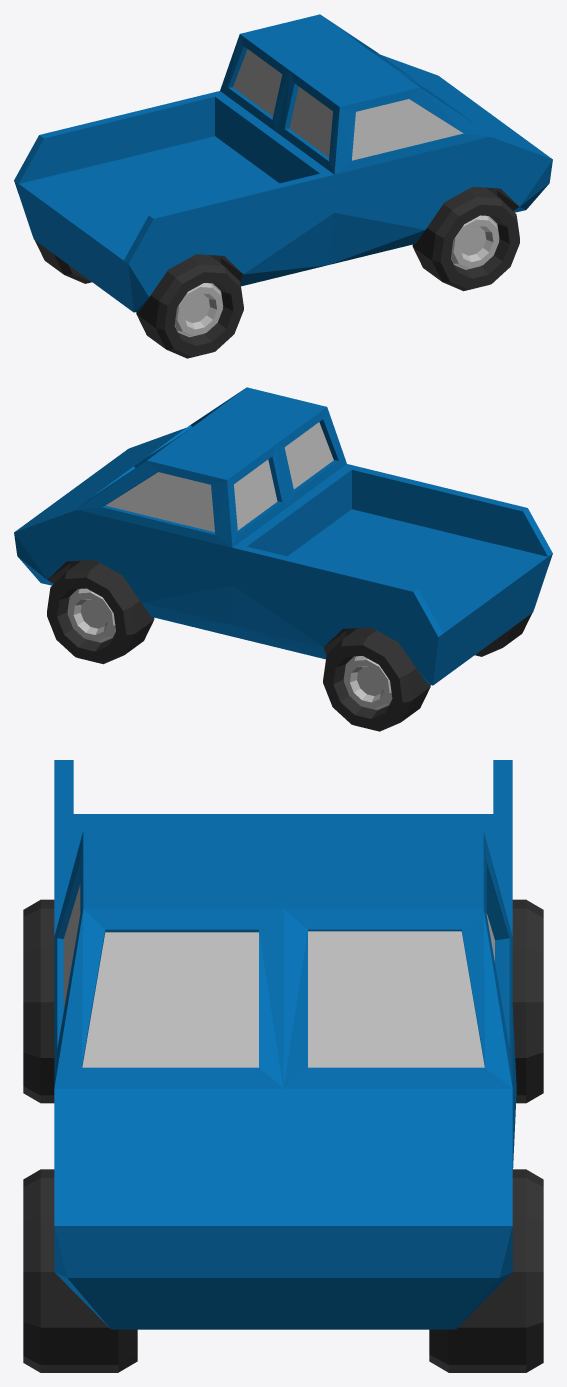
The model's file is CarPickUp.glb.
The picture shows the model from 3 angles, top to bottom: view 1: azimuth 30°, elevation 25°; view 2: azimuth 150°, elevation 25°; view 3: azimuth 270°, elevation 25°; orthographic projection. The views are drawn at different scales.
Parts seen in each view (by area): view 1: CarPickUp, Wheel.002, Wheel, Wheel.001; view 2: CarPickUp, Wheel.003, Wheel.001, Wheel; view 3: CarPickUp, Wheel.002, Wheel.003, Wheel, Wheel.001.
Boxes of the visible parts, box(x1,y1,x2,y2) form: CarPickUp: box(14, 14, 552, 312); Wheel.002: box(412, 187, 519, 291); Wheel: box(136, 254, 243, 358); Wheel.001: box(34, 240, 91, 283); CarPickUp: box(14, 387, 552, 685); Wheel.003: box(47, 560, 154, 664); Wheel.001: box(323, 627, 430, 731); Wheel: box(475, 613, 532, 656); CarPickUp: box(54, 760, 516, 1329); Wheel.002: box(23, 1169, 137, 1372); Wheel.003: box(429, 1169, 543, 1372); Wheel: box(23, 899, 54, 1103); Wheel.001: box(512, 899, 543, 1103).
Bounding box in the file's own units: 3.38 × 1.55 × 1.79.
